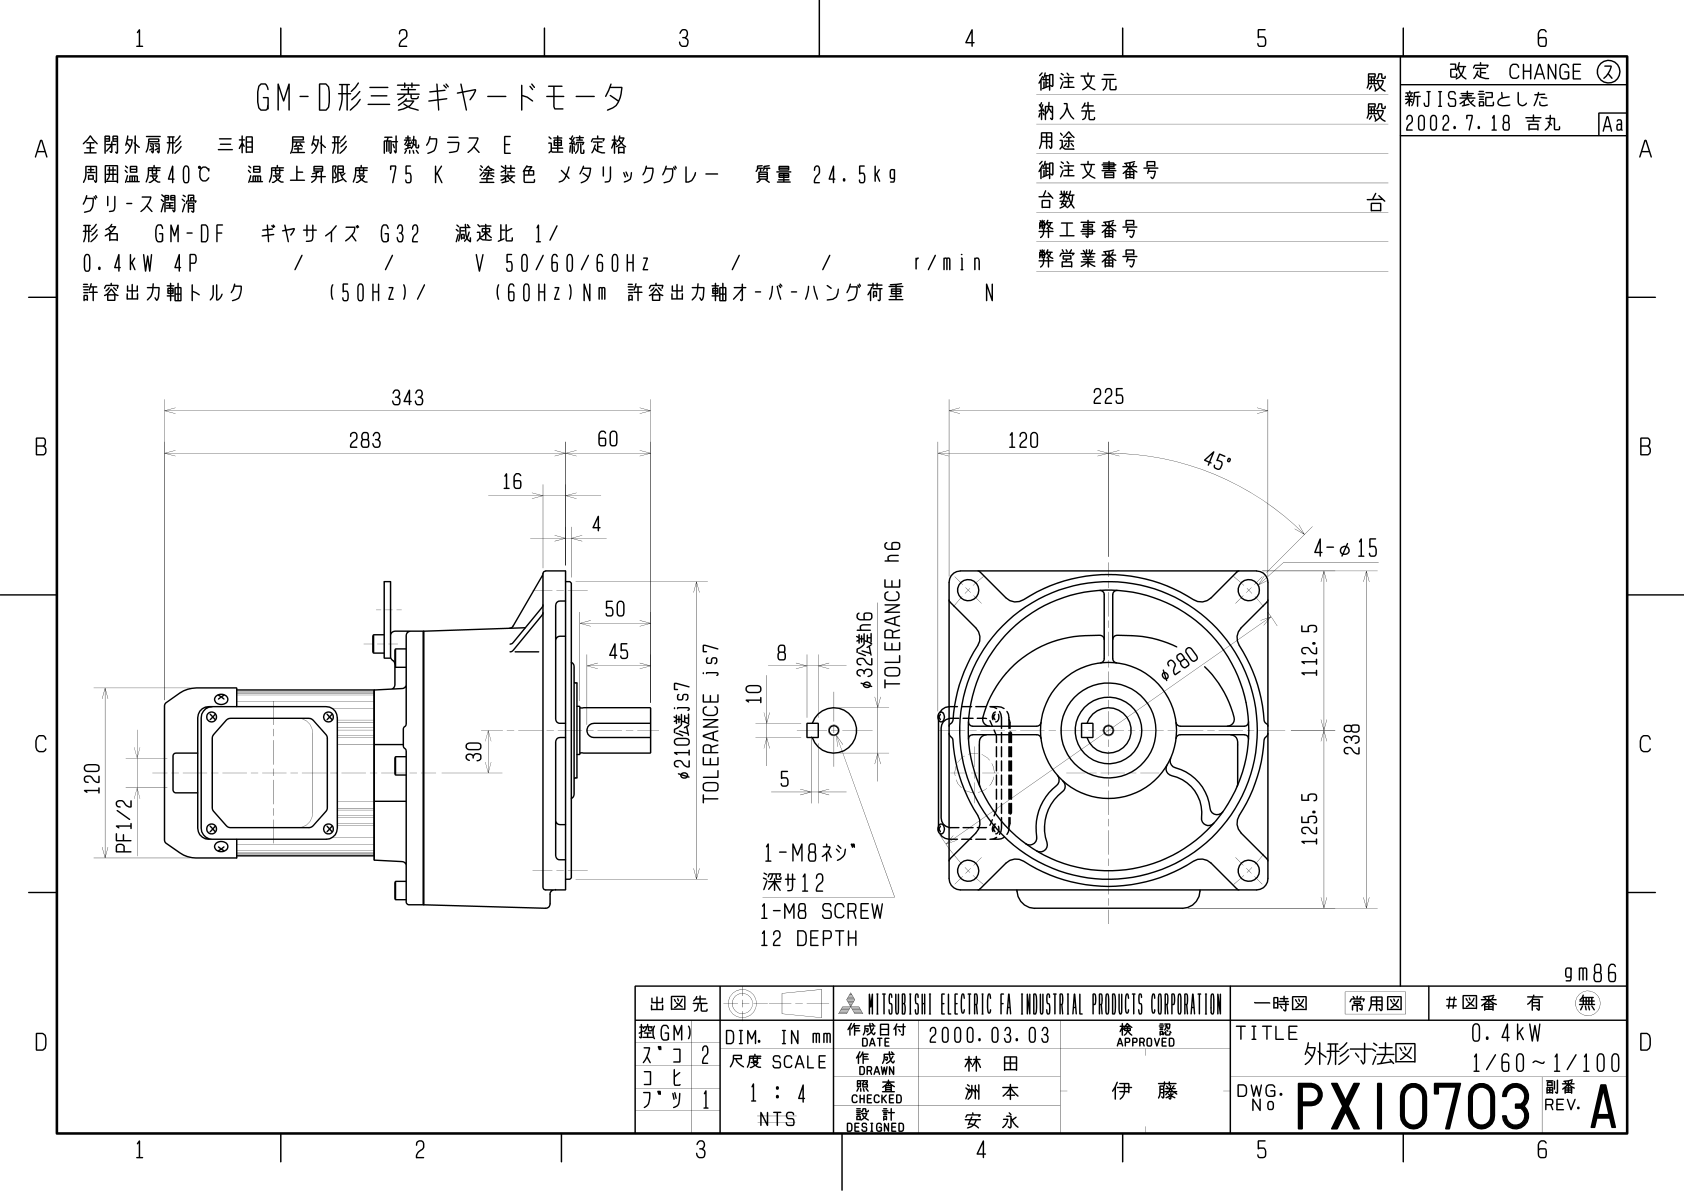GM_D_屋外＿三相_フランジ: (81, 351, 1383, 951)
